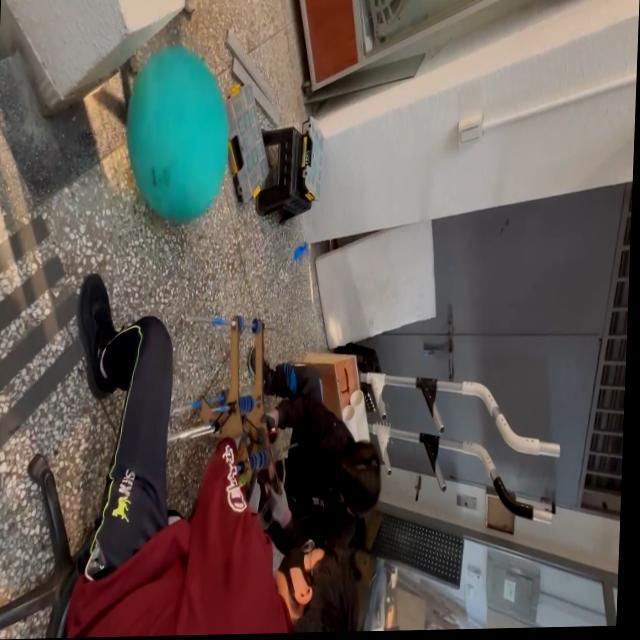ALGAE: (122, 42, 232, 226)
